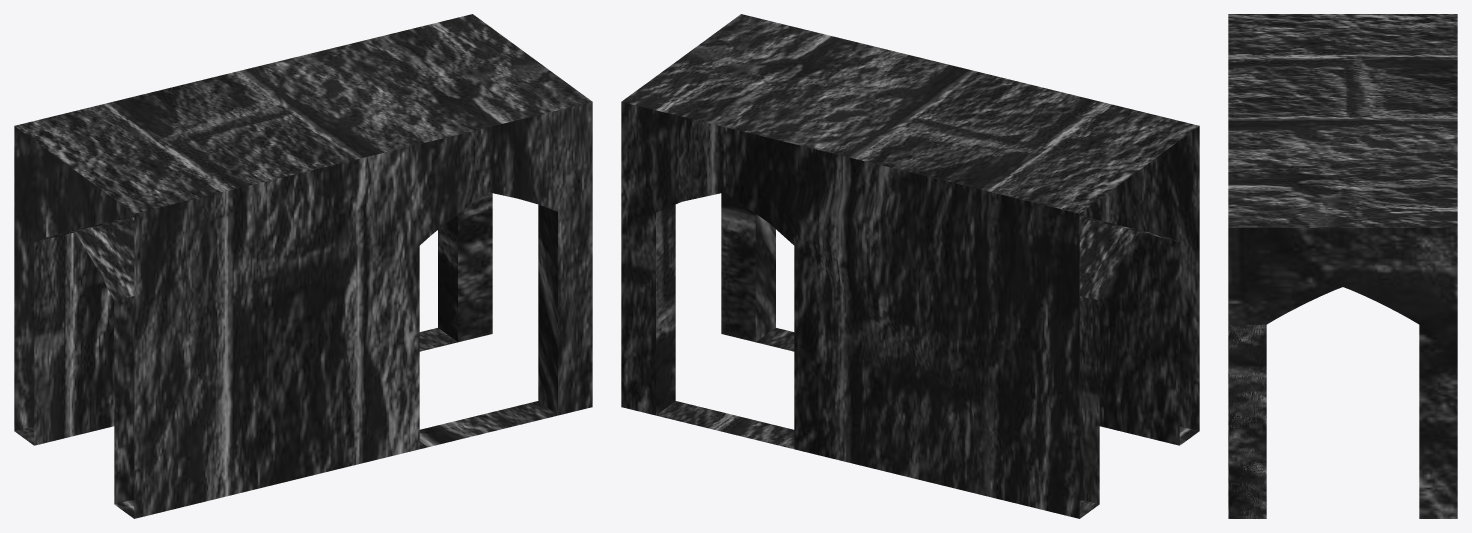
Rendered from BAOLI.fbx.
The picture shows the model from 3 angles, left to right: view 1: azimuth 30°, elevation 25°; view 2: azimuth 150°, elevation 25°; view 3: azimuth 270°, elevation 25°; orthographic projection. The views are drawn at different scales.
Parts seen in each view (by area): view 1: Cube.002; view 2: Cube.002; view 3: Cube.002.
Boxes of the visible parts, <box> form: Cube.002: <box>14,14,592,518</box>; Cube.002: <box>621,14,1199,518</box>; Cube.002: <box>1228,14,1457,518</box>.
Size of the model in its own units: 2084 by 1326 by 945.
